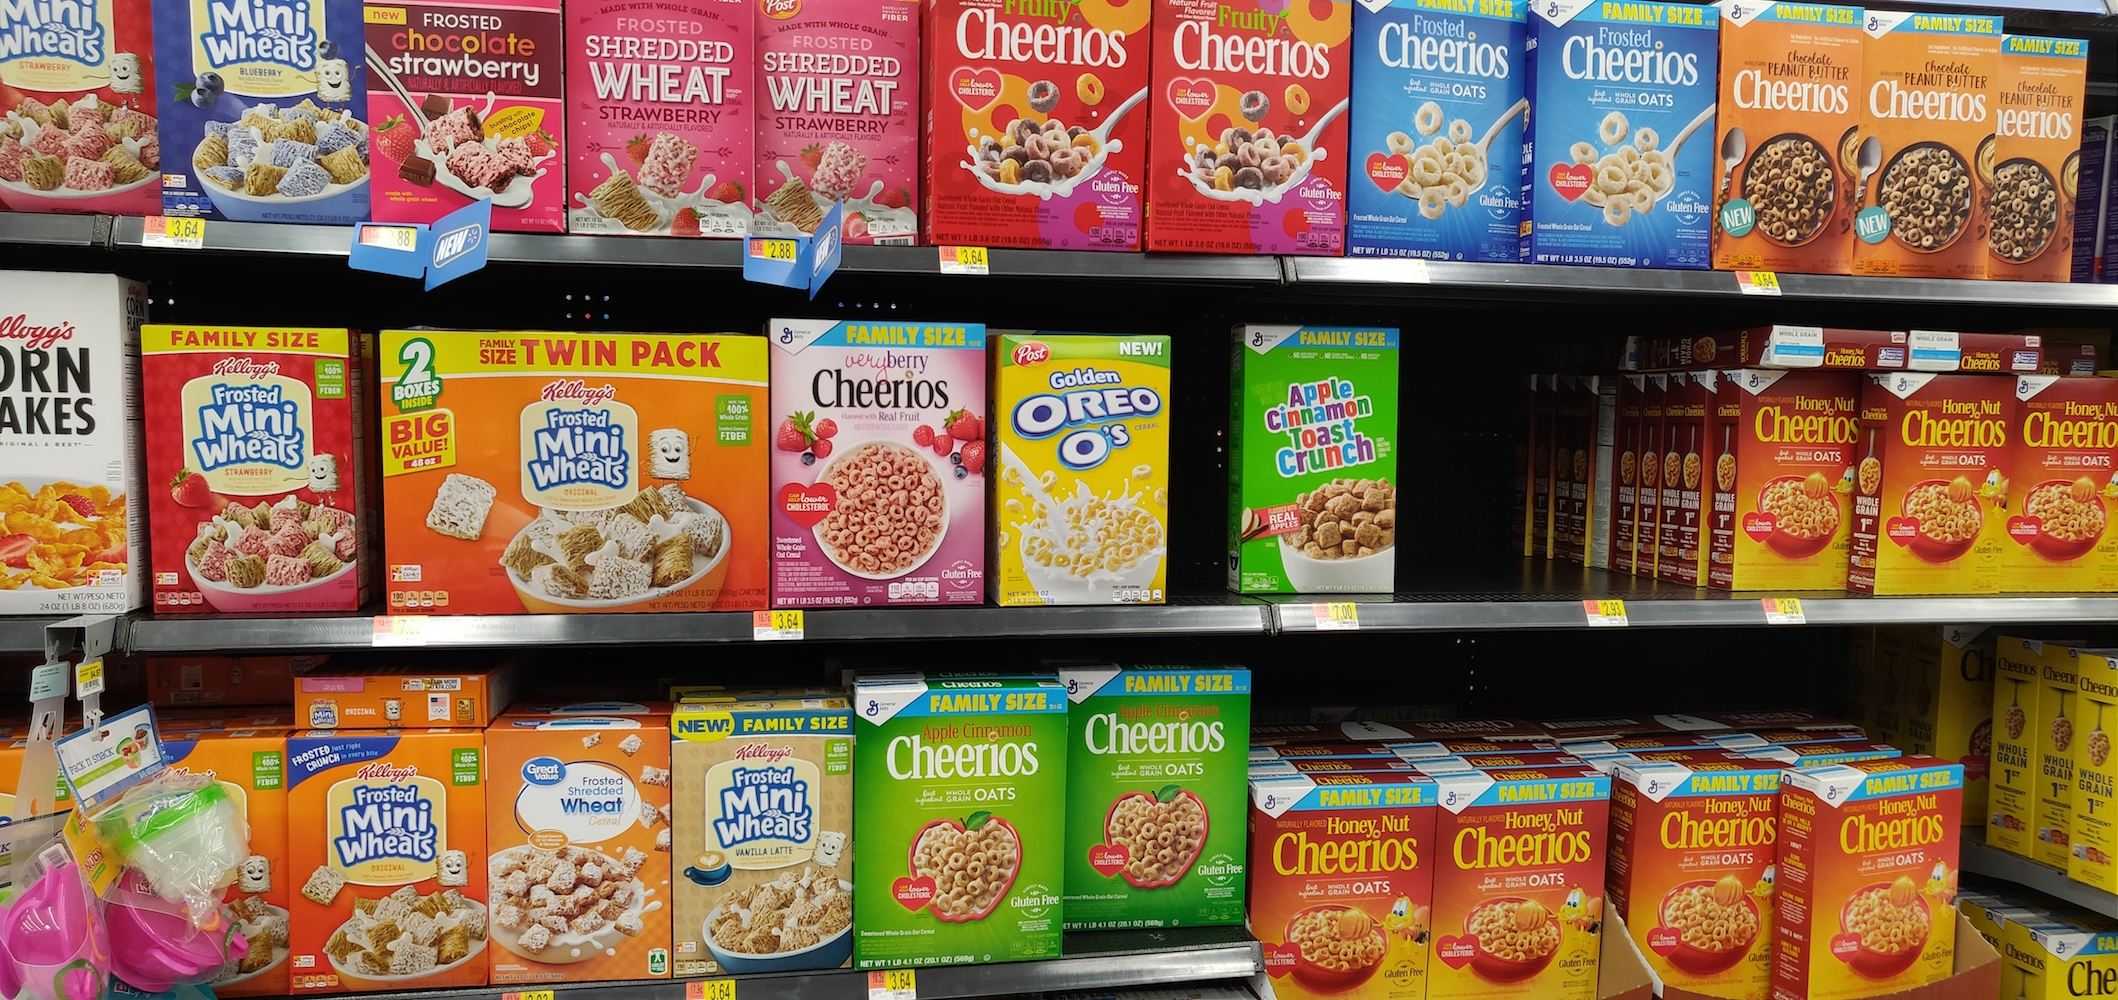Mini Wheats Straw-567084832: (145, 328, 371, 605)
Oreo Golden-568301011: (1001, 326, 1177, 609)
